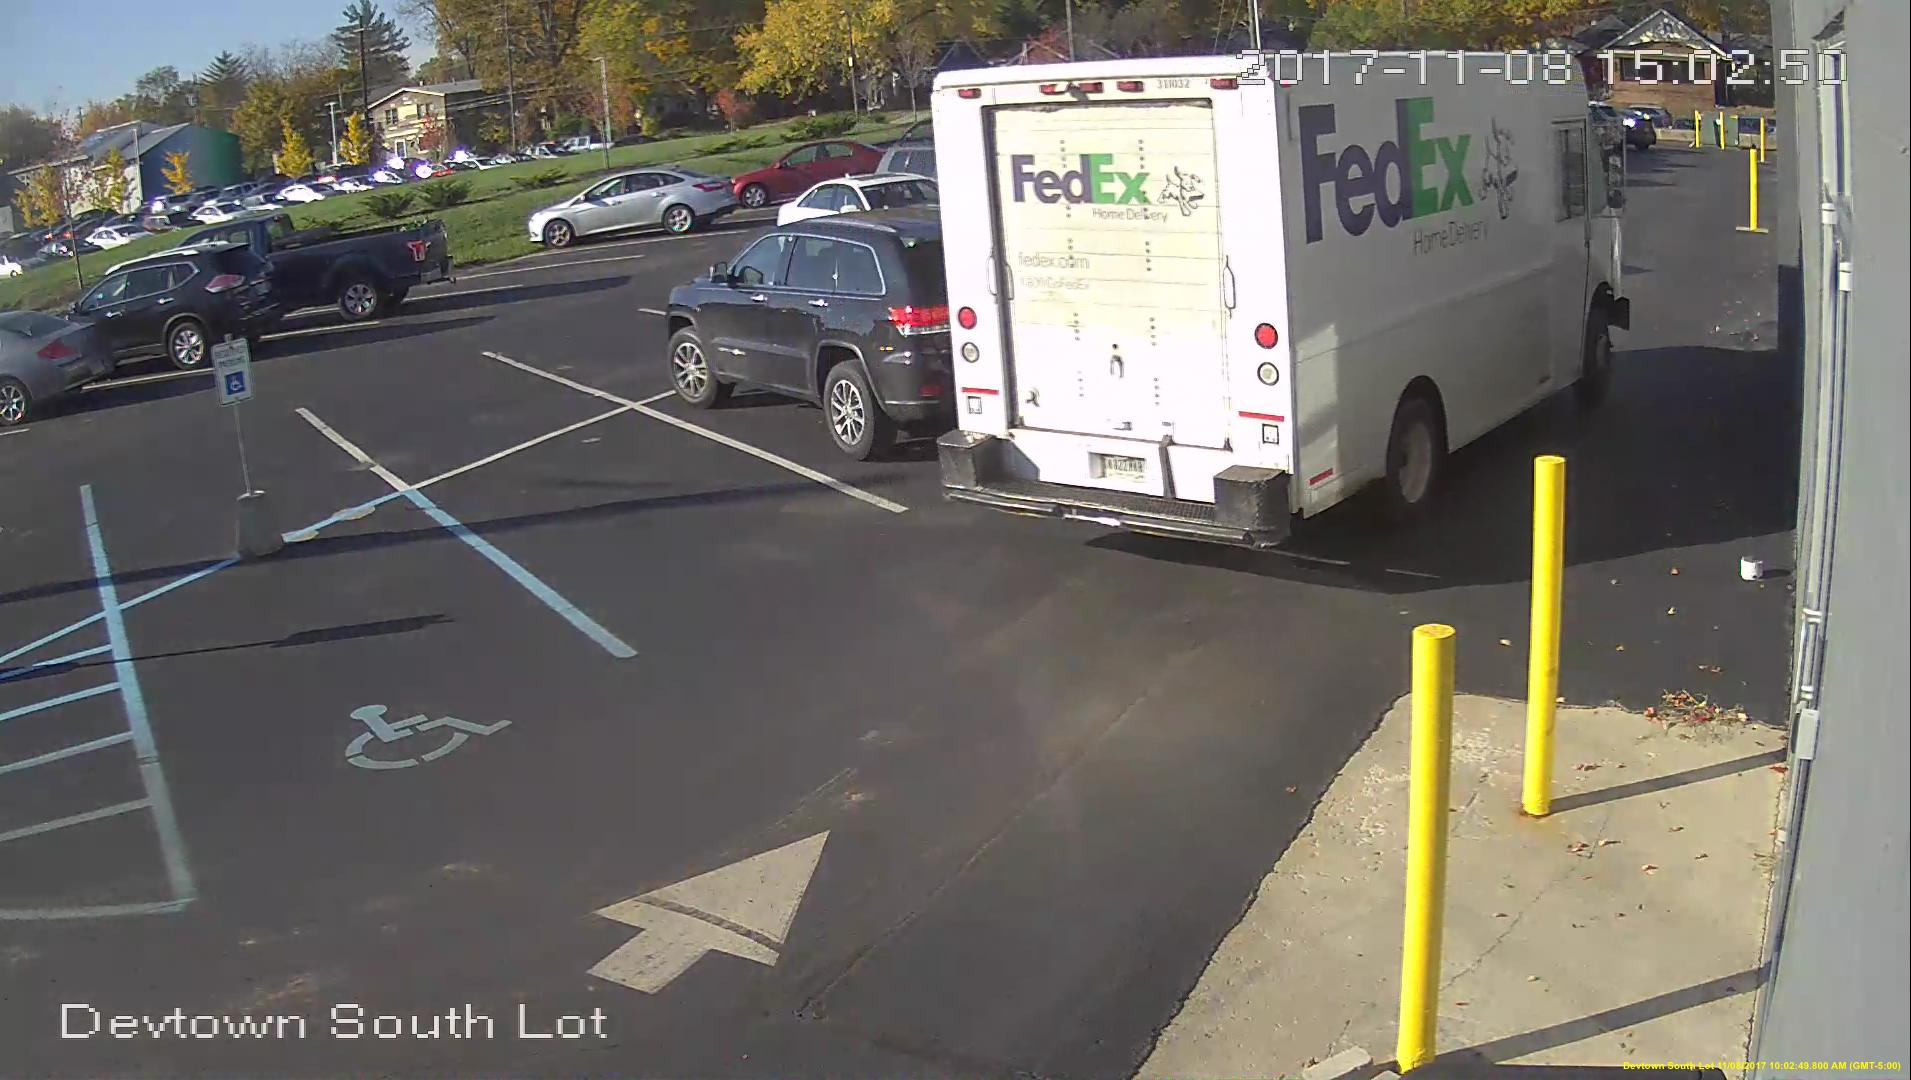fedex_truck: (933, 41, 1631, 554)
